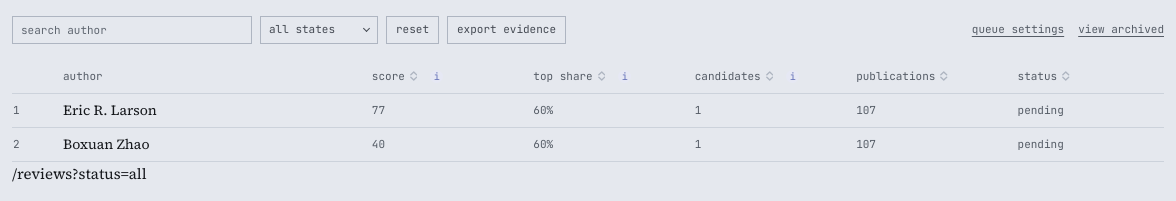
Test: sorts visible rows without dropping the current filter
Expected: the column heading "Eric R. Larson" is shown, [62,99,357,122]
Click the button with aria-label "Sort by score, descending" at [395, 76], box [372,69,417,84]
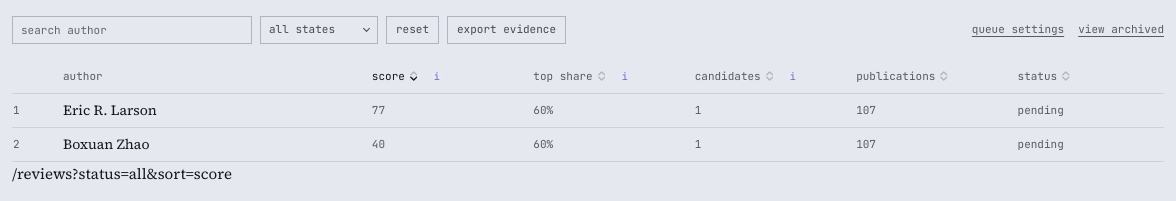
Expected: the text with test id "location" shows "status=all", [72,163,232,184]
Expected: the text with test id "location" shows "sort=score", [72,163,232,184]
